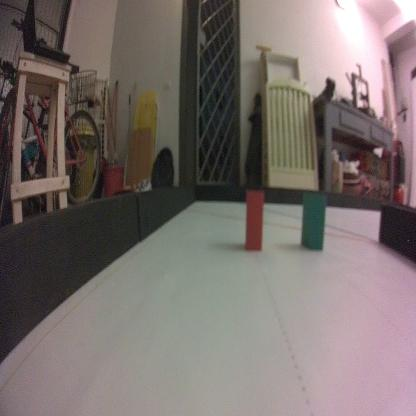green: (300, 189, 326, 252)
red: (244, 188, 264, 252)
